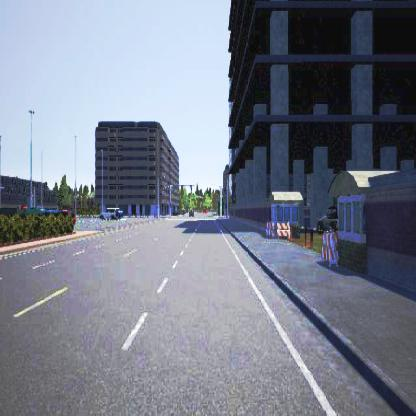vehicle: (316, 204, 338, 233), (99, 207, 122, 219)
